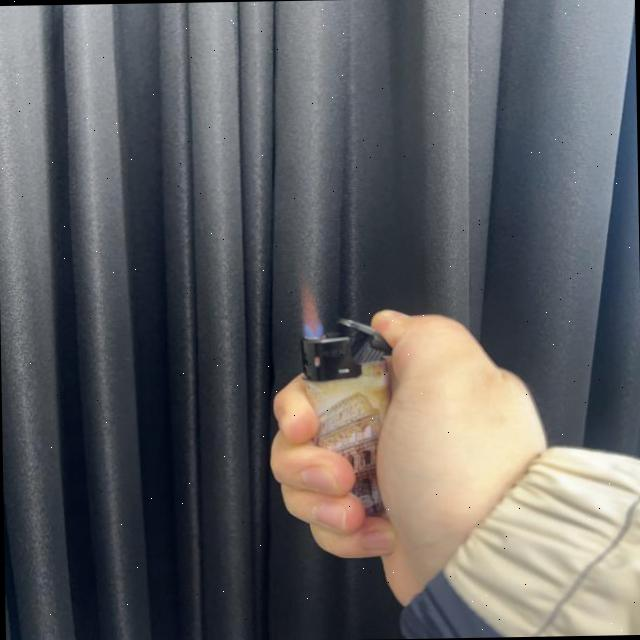fire: (298, 280, 326, 341)
